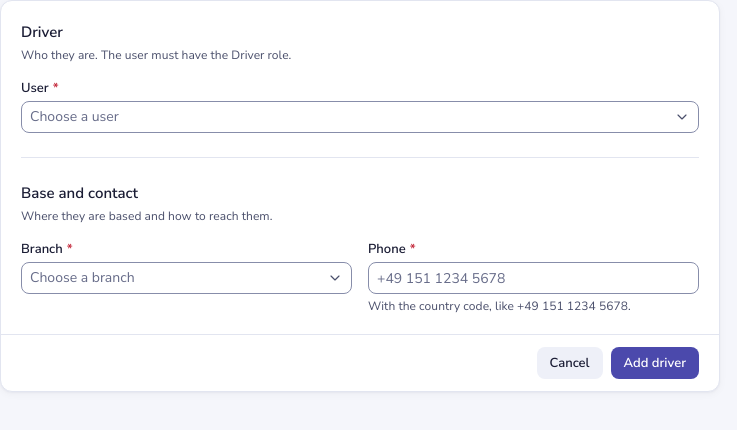
DriverForm › adding a driver › shows every required error on one click, and sends nothing
Check: the dropdown labelled "Choose a user" is shown, box [21,101,699,133]
Click the button "Add driver".
click(655, 363)  # box [610,347,699,379]
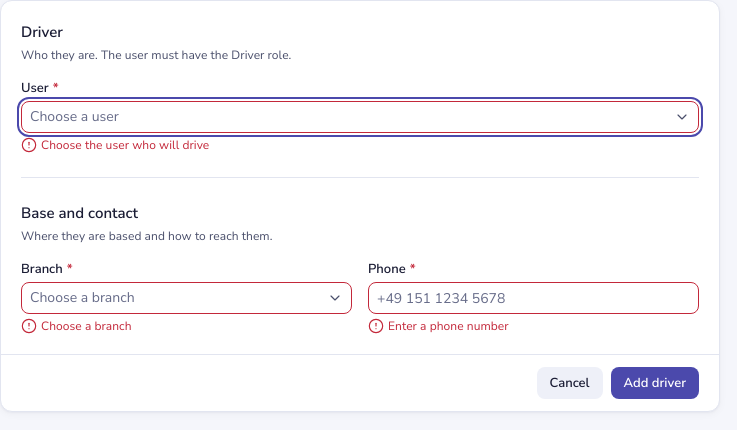
Check: the text "Choose the user who will drive" is shown, box [21,137,209,153]
Check: the text "Enter a phone number" is shown, box [368,318,509,334]
